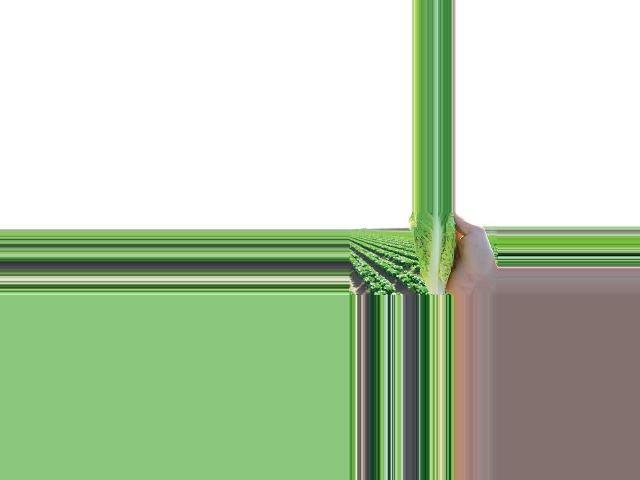lettuce: (411, 214, 455, 296)
